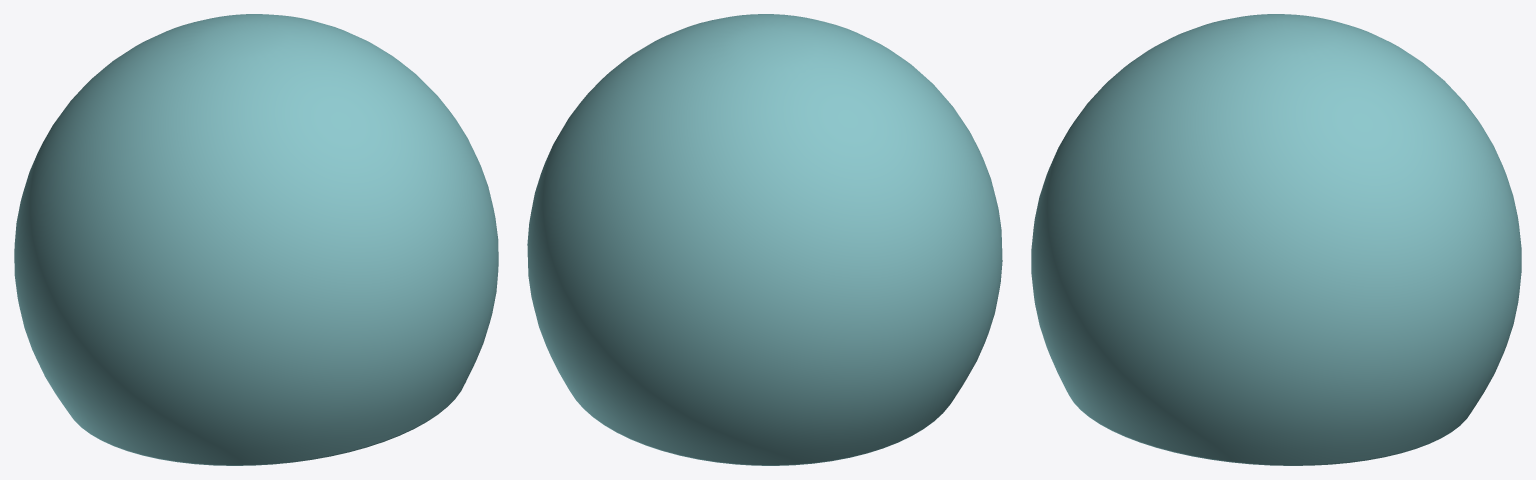
The picture shows the model from 3 angles, left to right: view 1: azimuth 30°, elevation 25°; view 2: azimuth 150°, elevation 25°; view 3: azimuth 270°, elevation 25°; orthographic projection. The views are drawn at different scales.
Visible parts, largest first — view 1: 左侧眼球后段; view 2: 左侧眼球后段; view 3: 左侧眼球后段.
Boxes of the visible parts, x1,y1,x2,y2 form: 左侧眼球后段: [14, 14, 498, 465]; 左侧眼球后段: [527, 14, 1002, 465]; 左侧眼球后段: [1031, 14, 1521, 465].
Size of the model in its own units: 0.0352 by 0.0286 by 0.0351.
